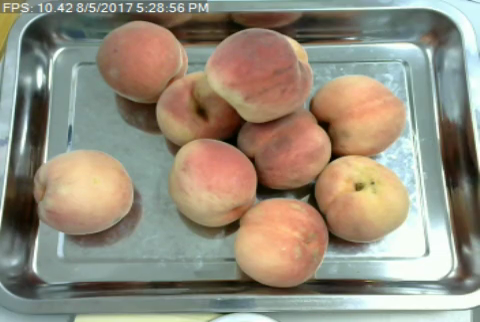Peach: (203, 27, 313, 122), (32, 149, 136, 235), (313, 154, 410, 244), (234, 198, 327, 287), (308, 73, 407, 156), (169, 137, 258, 227), (97, 18, 187, 105), (238, 105, 326, 185), (153, 67, 242, 145)
